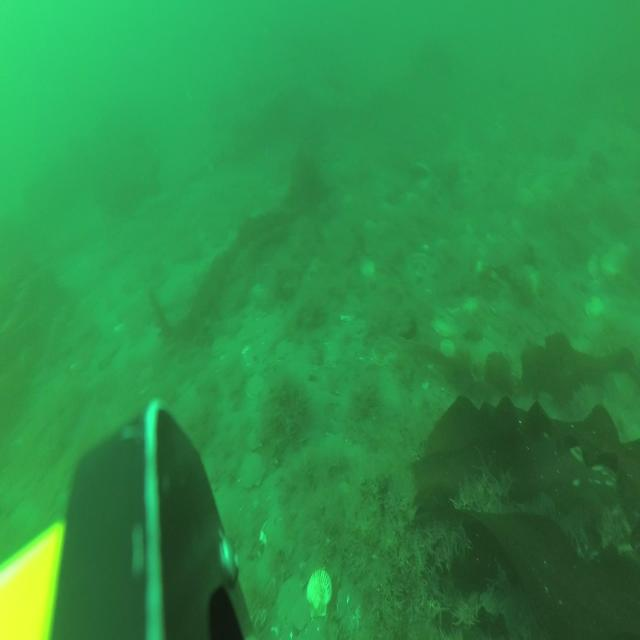scallop: (305, 567, 332, 621), (277, 574, 303, 626), (239, 448, 268, 492), (371, 340, 398, 368), (320, 338, 341, 372), (291, 597, 311, 631), (583, 293, 604, 321), (246, 375, 265, 402), (246, 427, 266, 452), (434, 318, 456, 338), (359, 259, 376, 281), (439, 338, 456, 360)
